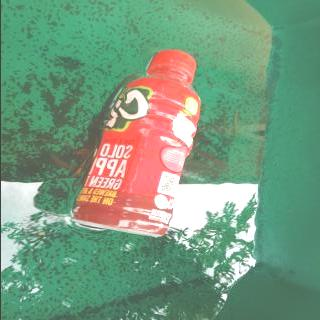bottle: (67, 47, 203, 240)
